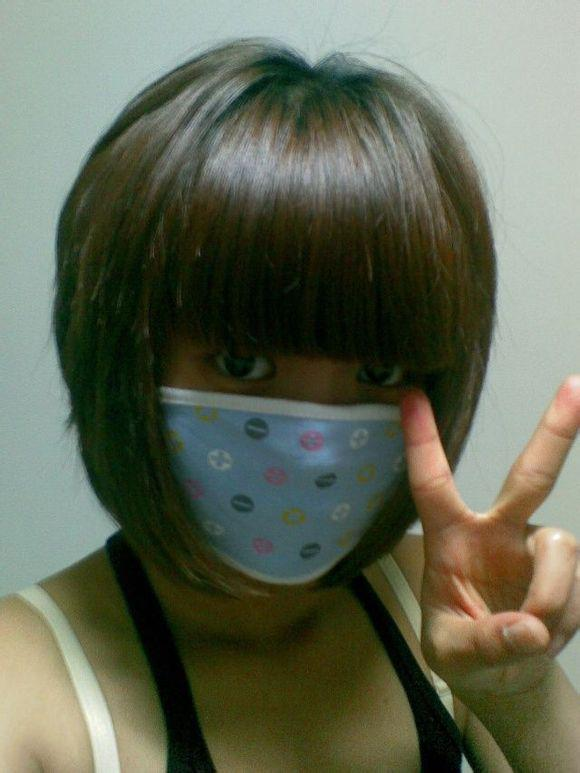OK: (161, 298, 420, 587)
